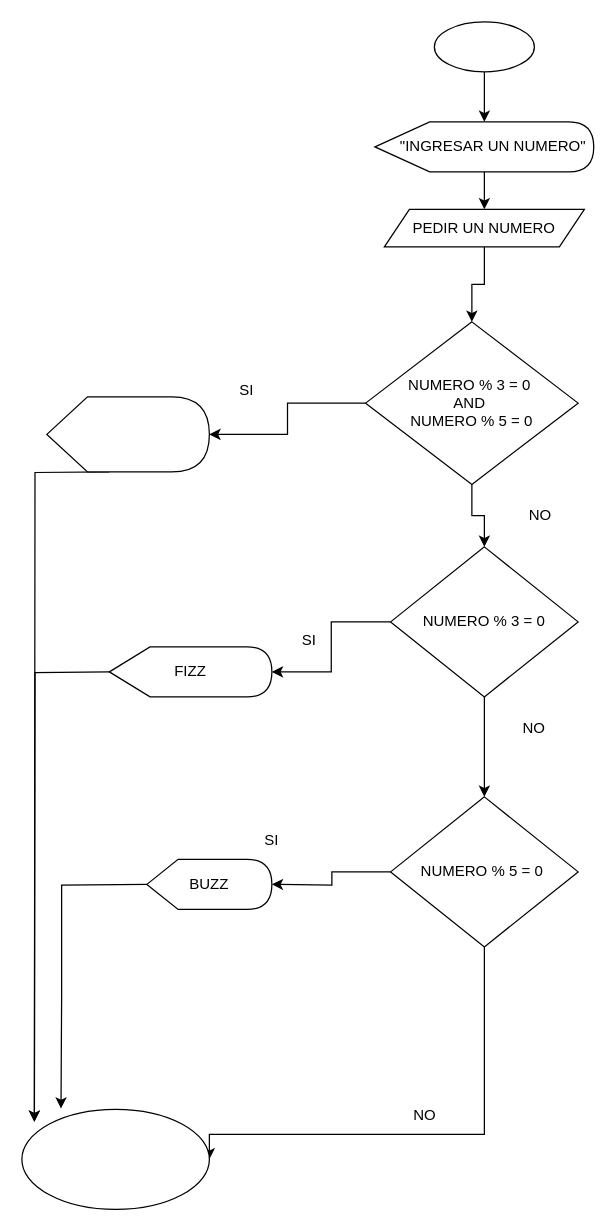
Image size: 616x1231. Some labels were removed from this diagram. Here are the shapes that lost their labels. From the top down, the box of each, then its label:
(433, 21, 534, 72): INICIO
(46, 396, 209, 472): FIZZBUZZ
(21, 1108, 209, 1209): FIN
